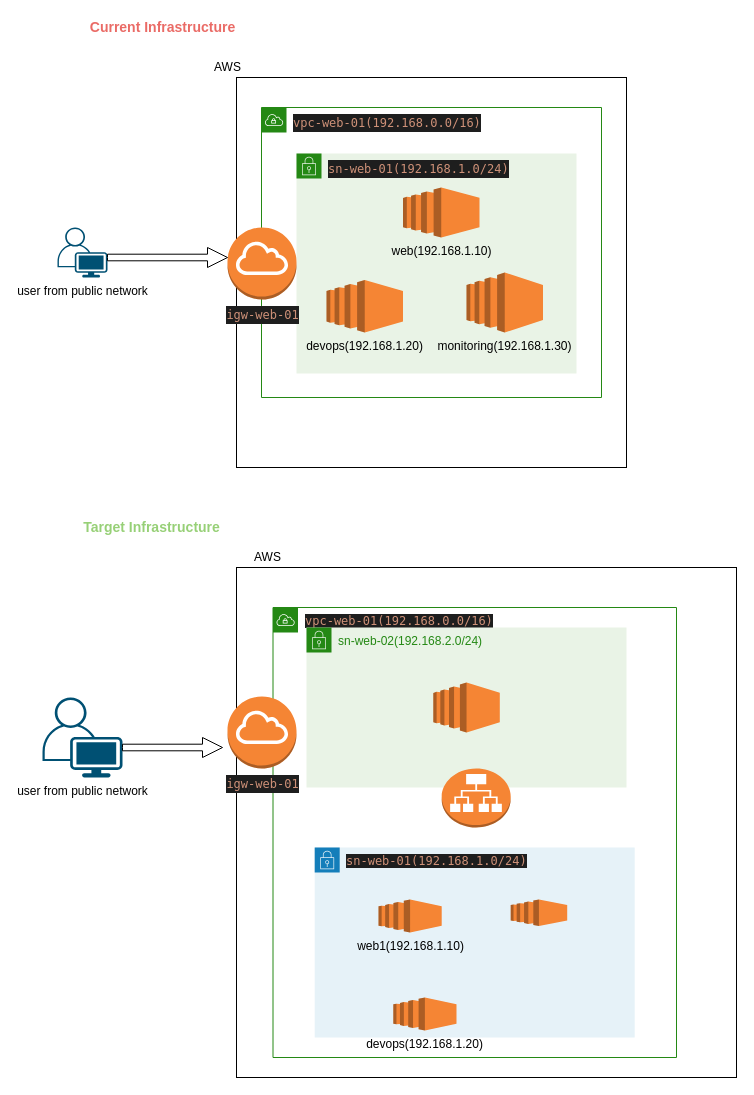
This 754x1095 diagram has some shape labels left out. The centre of each missing label's shape, as x and y in pixels:
ALB: the point at 476,798
monitoring(192.168.2.30): the point at 466,707
web2(192.168.1.11): the point at 538,912
